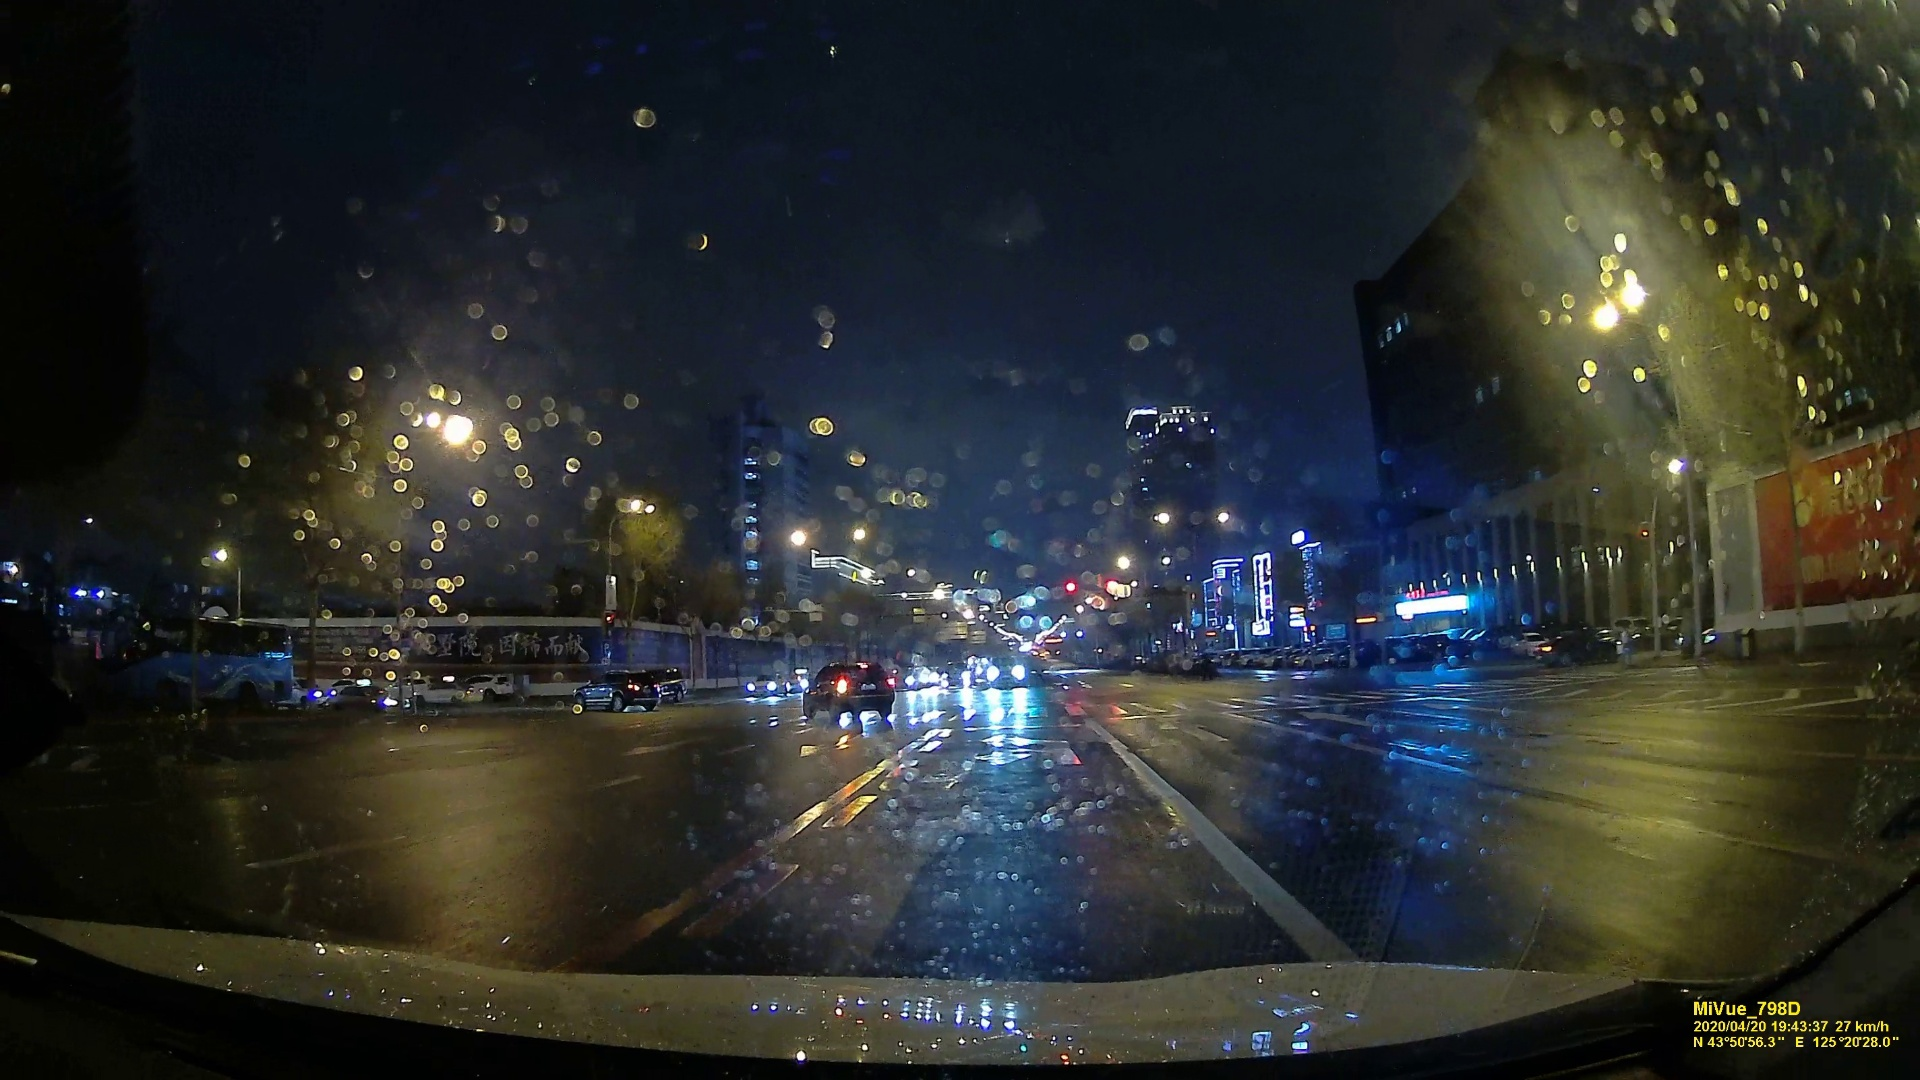bus: (99, 615, 293, 713)
traffic_sign: (1059, 576, 1077, 601)
vehicle: (804, 661, 894, 723), (568, 673, 663, 713), (986, 655, 1025, 690), (746, 673, 790, 698)
